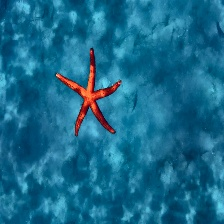starfish: (56, 48, 122, 137), (56, 48, 122, 136)
